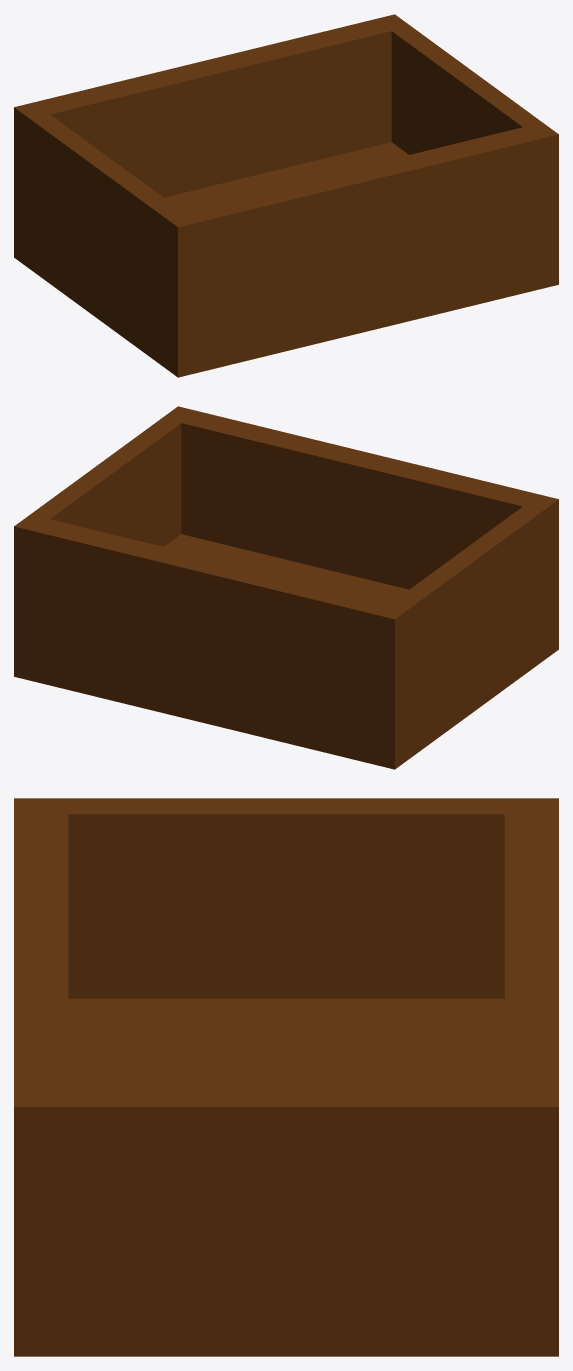
The model's file is madboks (1).fbx.
3 views of the same model, one above another, from view 1: azimuth 30°, elevation 25°; view 2: azimuth 150°, elevation 25°; view 3: azimuth 270°, elevation 25° (orthographic). The views are drawn at different scales.
Visible parts, largest first — view 1: Cube; view 2: Cube; view 3: Cube.
Part boxes in pixels (bbox=[...]): Cube: bbox=[14, 14, 558, 377]; Cube: bbox=[14, 406, 558, 769]; Cube: bbox=[14, 798, 558, 1356].
Size of the model in its own units: 268 by 101 by 200.
